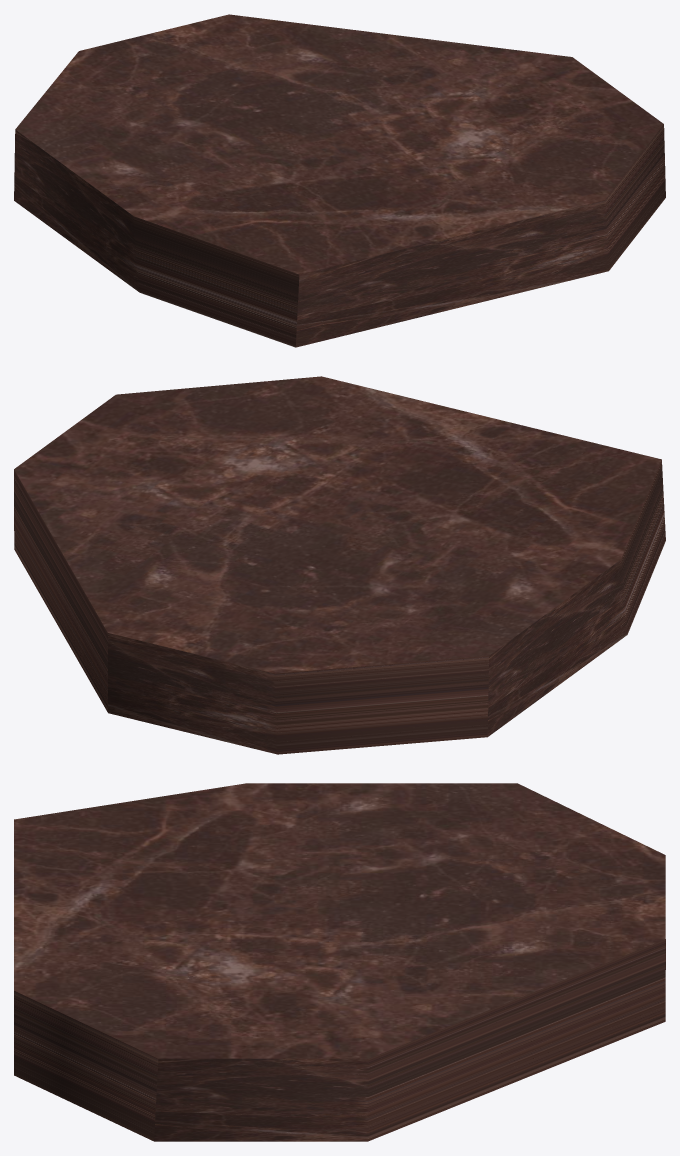
File: Stone_Mini.fbx
The picture shows the model from 3 angles, top to bottom: view 1: azimuth 30°, elevation 25°; view 2: azimuth 150°, elevation 25°; view 3: azimuth 270°, elevation 25°; orthographic projection. The views are drawn at different scales.
Parts seen in each view (by area): view 1: obj24; view 2: obj24; view 3: obj24.
Part boxes in pixels (x1,y1,x2,y2): obj24: [14, 14, 665, 347]; obj24: [14, 376, 665, 754]; obj24: [14, 783, 665, 1141].
Bounding box in the file's own units: 83.55 × 11.71 × 83.61.
